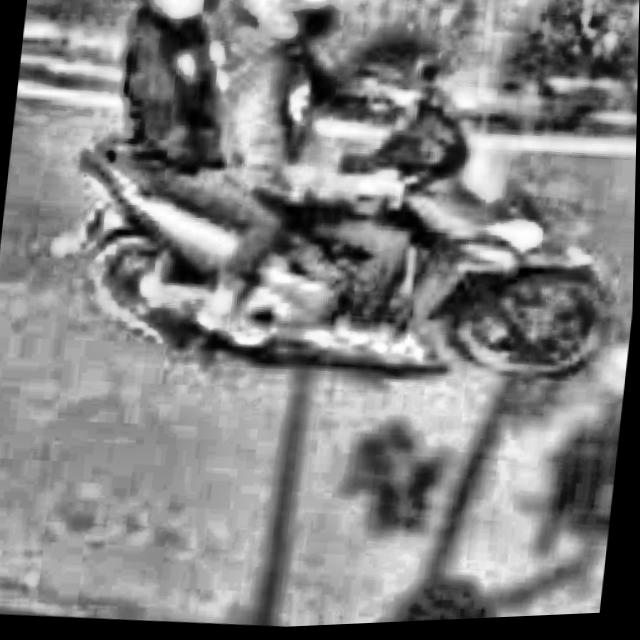motorcycle: (38, 24, 639, 405)
